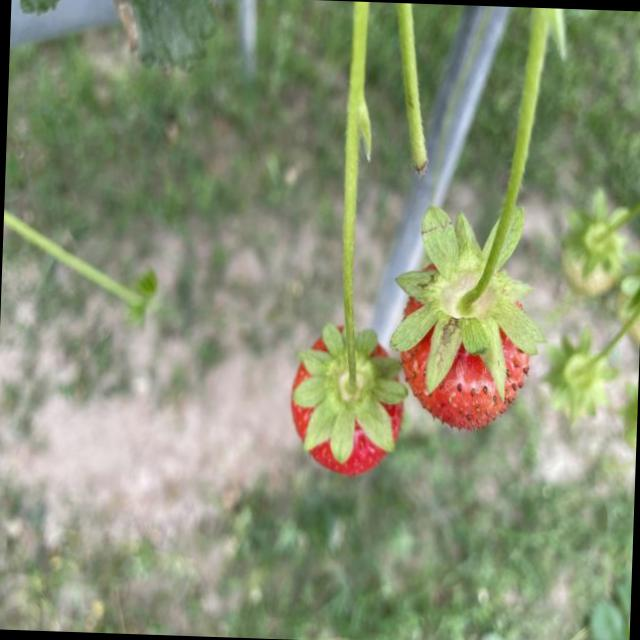stem: (292, 1, 407, 464), (393, 137, 542, 394)
strawberryR: (400, 332, 528, 428), (309, 422, 387, 476), (291, 400, 312, 439), (385, 402, 402, 439), (294, 364, 308, 388)
